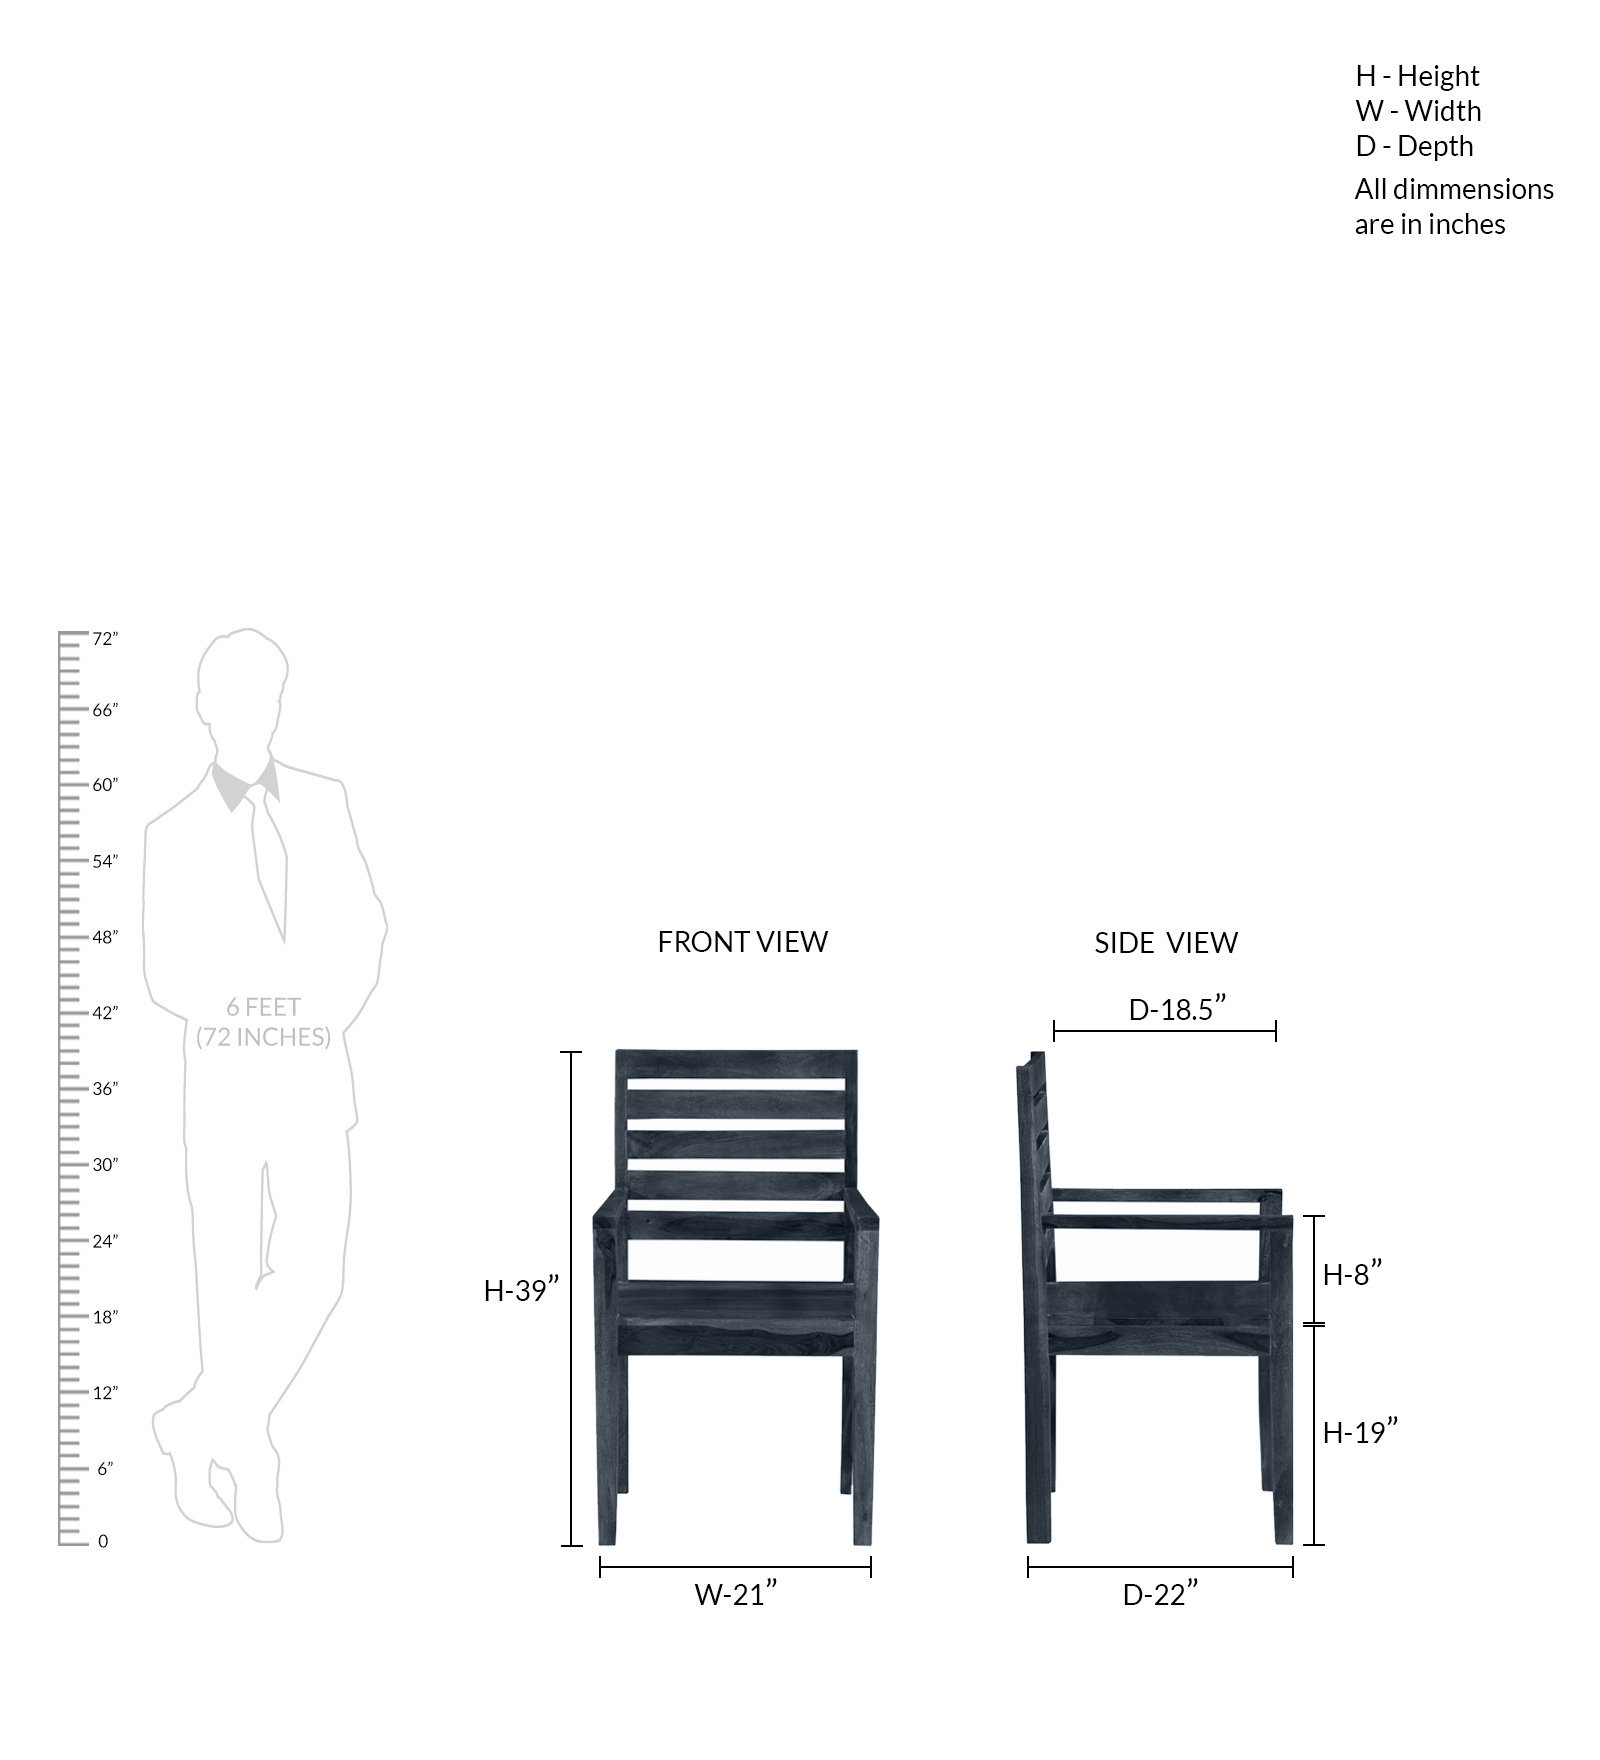Stigen Arm Chair in Provincial Teak Finish by Woodsworth: (596, 1036, 901, 1556), (985, 1038, 1300, 1542)
